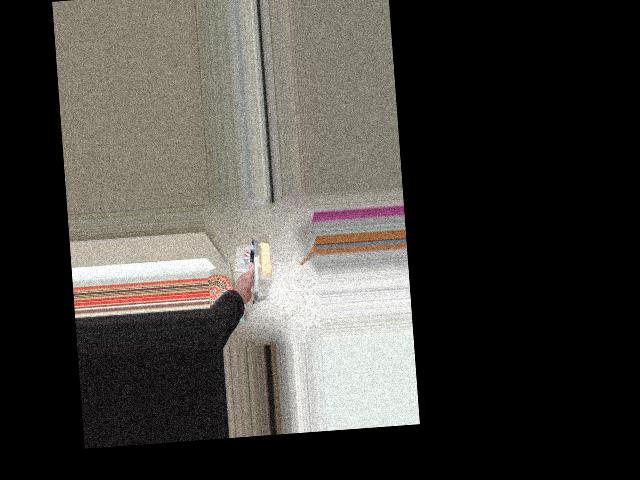cheese: (219, 242, 291, 316)
